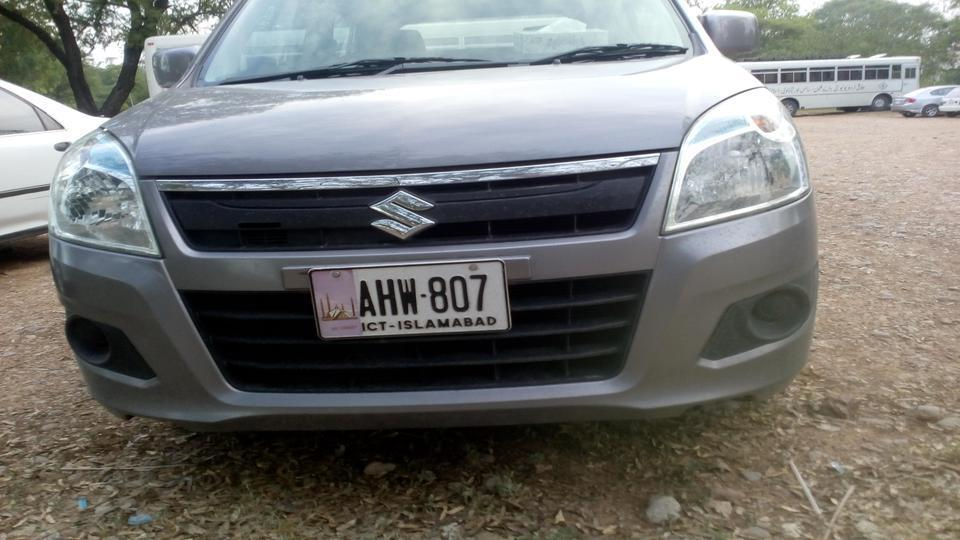NumberPlate: (308, 263, 519, 338)
